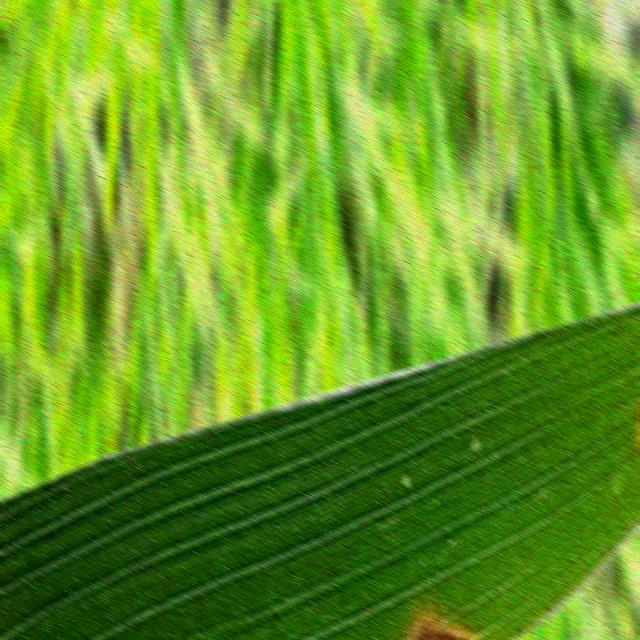LEAF BLAST: (405, 624, 467, 640)
